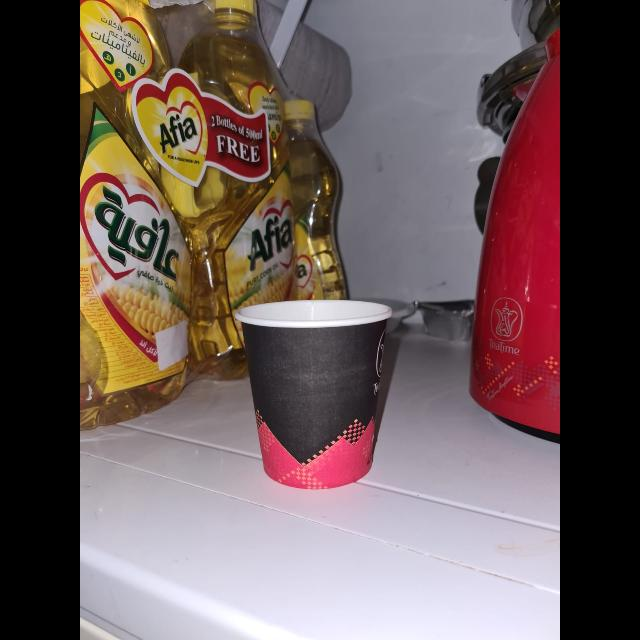trash: (235, 296, 399, 488)
